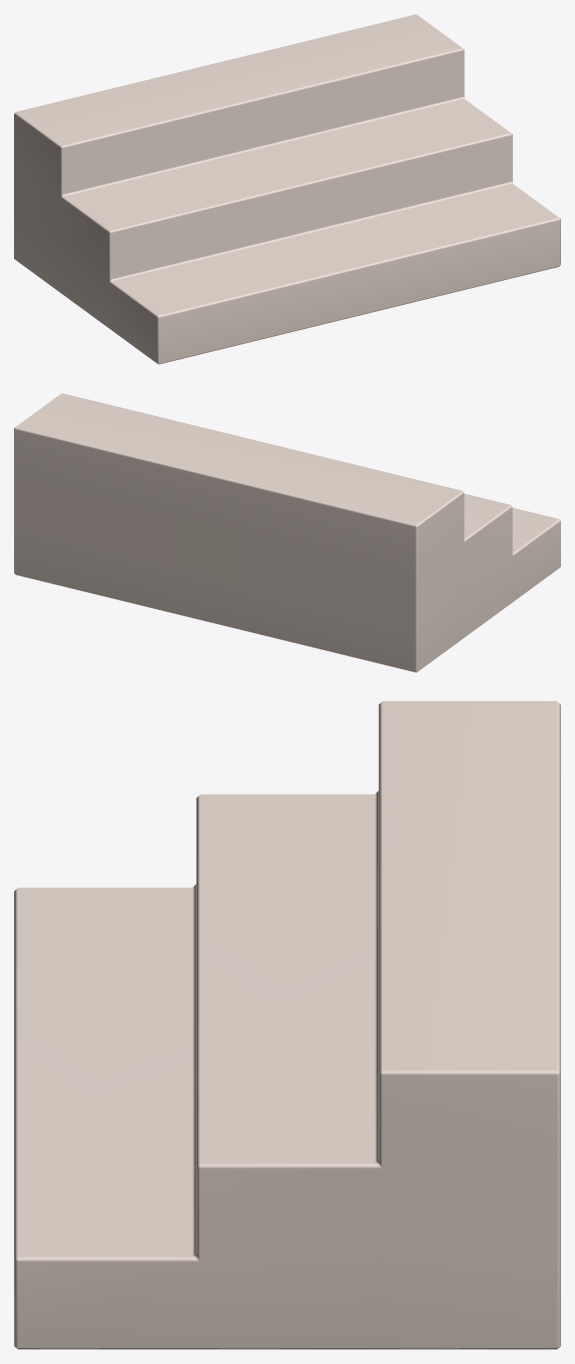
File: Stairs_1.glb
3 renders of one model, top to bottom at view 1: azimuth 30°, elevation 25°; view 2: azimuth 150°, elevation 25°; view 3: azimuth 270°, elevation 25°, orthographic. The views are drawn at different scales.
Parts seen in each view (by area): view 1: Stairs_1; view 2: Stairs_1; view 3: Stairs_1.
Boxes of the visible parts, x1,y1,x2,y2 form: Stairs_1: (14, 14, 560, 364); Stairs_1: (14, 393, 560, 672); Stairs_1: (14, 701, 560, 1349).
Bounding box in the file's own units: 2.2 × 0.7731 × 1.37.
Materials: 1 (1 with a texture image).
